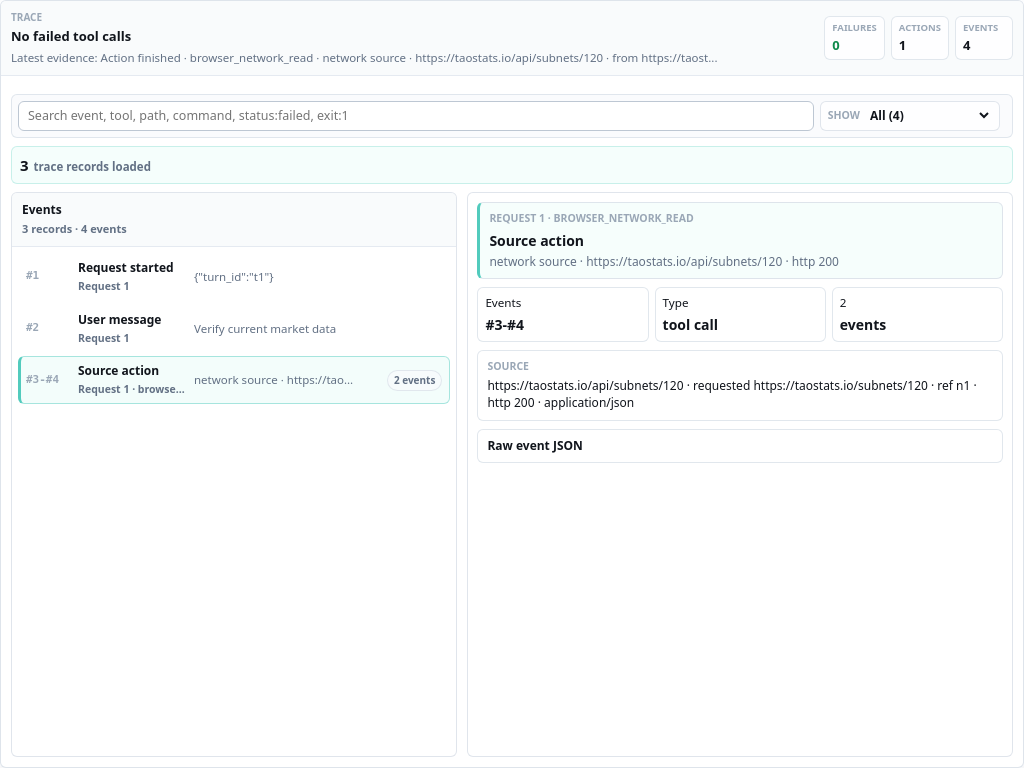
Test: SessionTracePanel › shows source evidence in the event list when there are no failures
Expected: the element with test id "session-trace-panel" shows "No failed tool calls", [11, 27, 131, 45]
Expected: the list with test id "session-trace-event-list" shows "Source action", [18, 356, 450, 404]
Select "Sources (2)" in the dropdown named "Trace category" at (929, 116), box [866, 106, 992, 125]
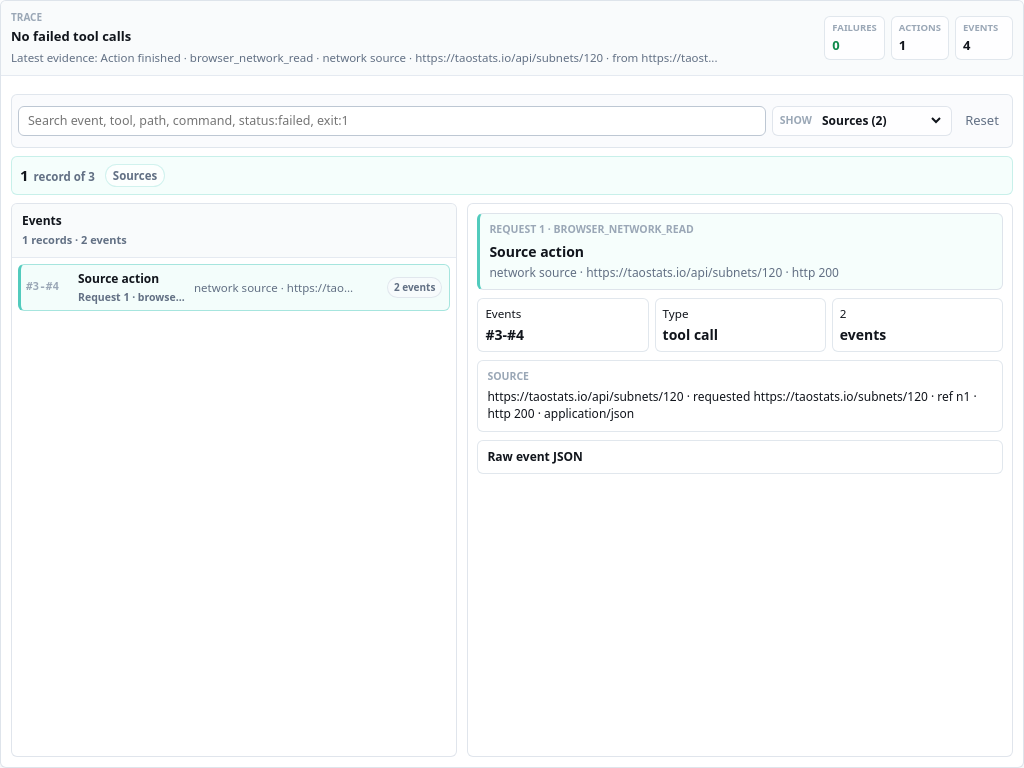
Expected: the element with test id "session-trace-event-detail" shows "Source", [487, 369, 529, 383]
Now the element with test id "session-trace-resultbar" shows "Sources", box [113, 168, 157, 183]
